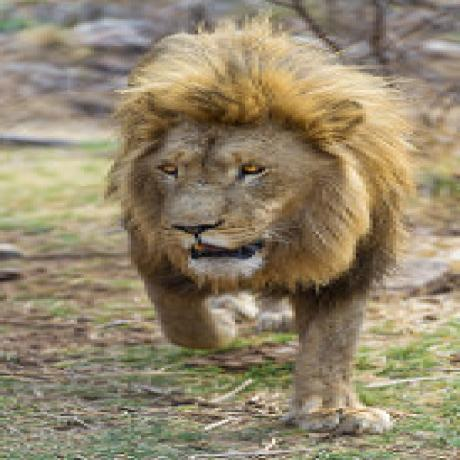Lion: (108, 24, 416, 438)
